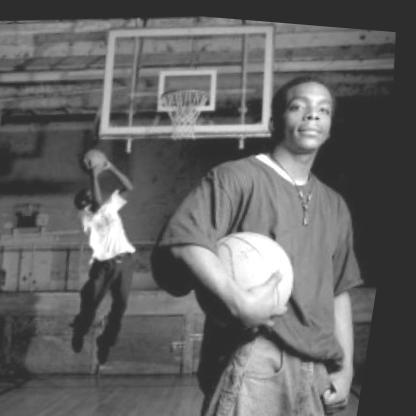basketball: (194, 213, 316, 326), (80, 139, 118, 174)
